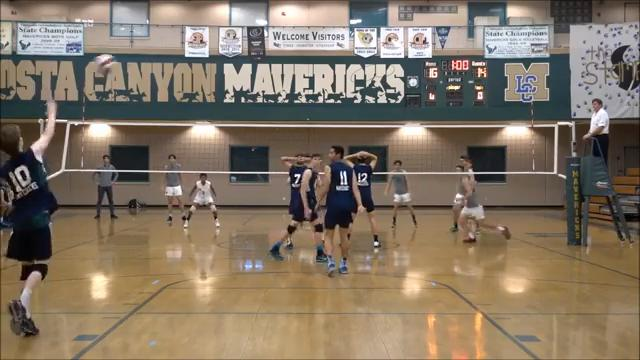battuta: (0, 91, 64, 343)
